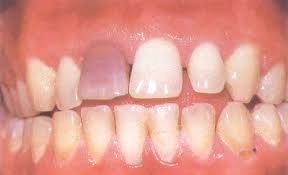Tooth Discoloration: (76, 39, 128, 100)
